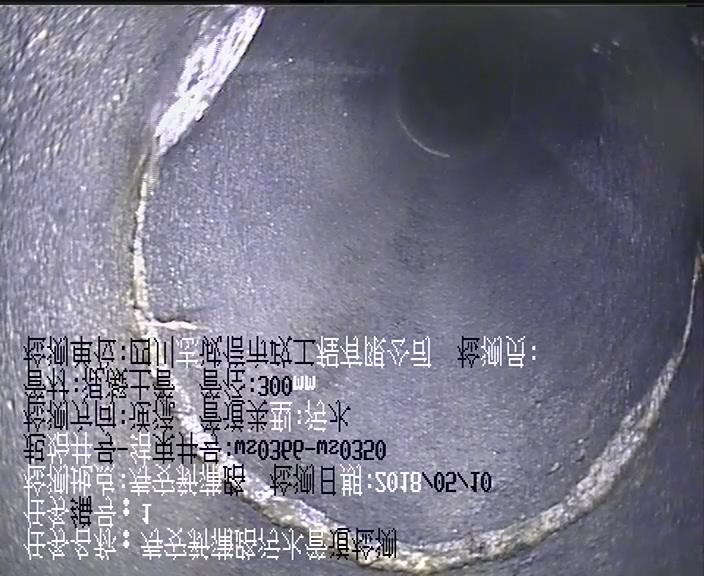CKTJ: (128, 160, 701, 574)
SL: (141, 6, 289, 153)
